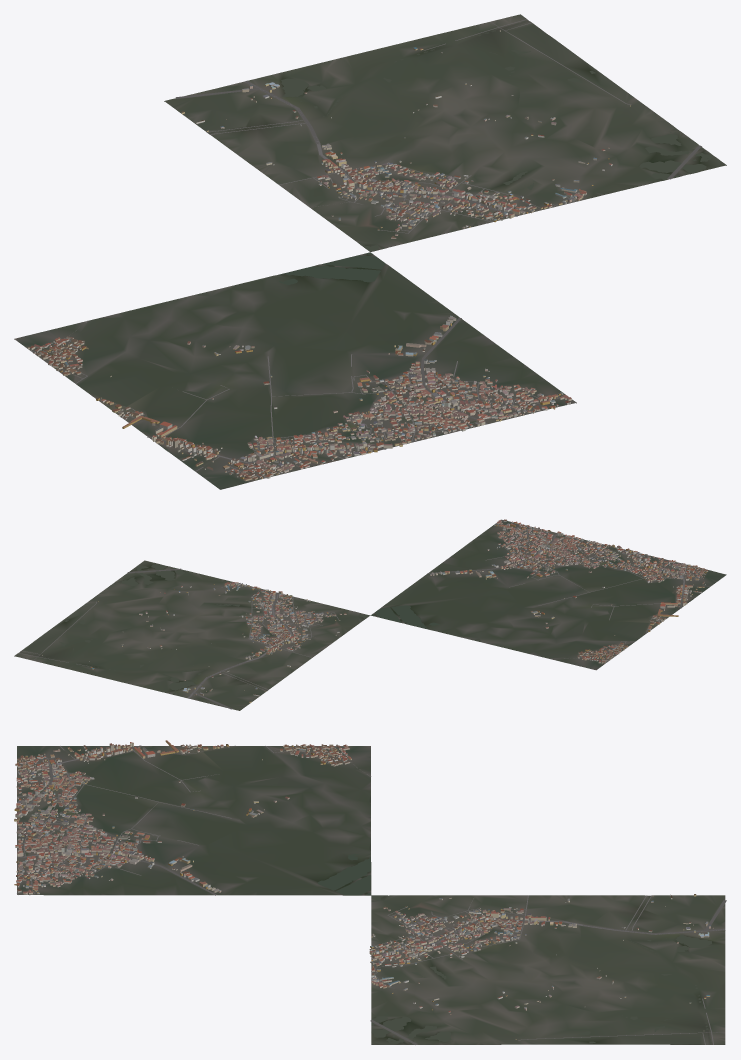
The picture shows the model from 3 angles, top to bottom: view 1: azimuth 30°, elevation 25°; view 2: azimuth 150°, elevation 25°; view 3: azimuth 270°, elevation 25°; orthographic projection. The views are drawn at different scales.
Parts seen in each view (by area): view 1: ground, buildings, roads, water; view 2: ground, buildings, roads, water; view 3: ground, buildings, roads, water.
Part boxes in pixels (left/top/right/bottom): ground: left=14, top=14, right=726, bottom=489; buildings: left=28, top=30, right=630, bottom=481; roads: left=31, top=19, right=701, bottom=473; water: left=164, top=21, right=721, bottom=450; ground: left=14, top=519, right=726, bottom=710; buildings: left=42, top=519, right=708, bottom=702; roads: left=19, top=523, right=710, bottom=709; water: left=21, top=562, right=691, bottom=690; ground: left=17, top=746, right=725, bottom=1044; buildings: left=14, top=740, right=713, bottom=1039; roads: left=17, top=745, right=726, bottom=1044; water: left=318, top=854, right=711, bottom=1044.
Bounding box in the file's own units: 2843 × 31.23 × 2822.
